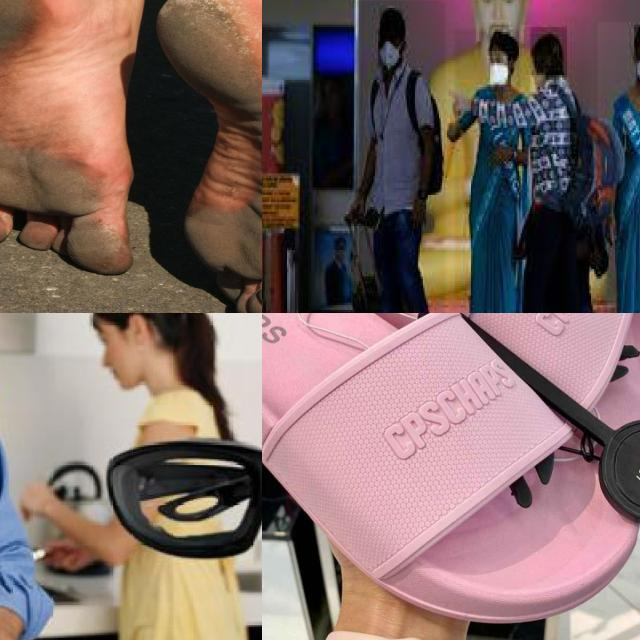Barefoots: (0, 0, 133, 275), (155, 0, 262, 313)
Sandals: (262, 313, 640, 640)
face_mask: (378, 29, 402, 68), (490, 51, 508, 85), (635, 46, 640, 82)
face_nomask: (92, 330, 141, 393), (530, 56, 551, 92)
hand_noglove: (42, 528, 100, 577), (12, 474, 57, 520)
head_nohelmet: (530, 27, 567, 75), (83, 313, 175, 325), (380, 8, 404, 37), (489, 25, 511, 56), (634, 24, 640, 46)
person: (69, 313, 260, 640), (359, 0, 447, 313), (515, 15, 589, 313), (455, 29, 522, 313), (597, 22, 640, 313)
